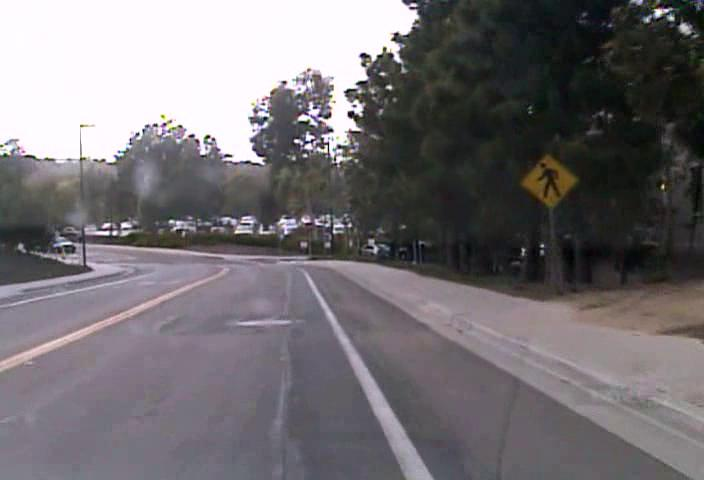pedestrianCrossing: (519, 151, 579, 210)
